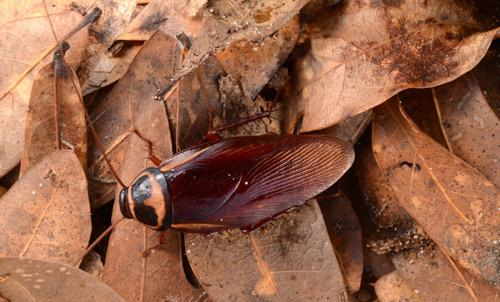cockroach: (115, 130, 358, 240)
